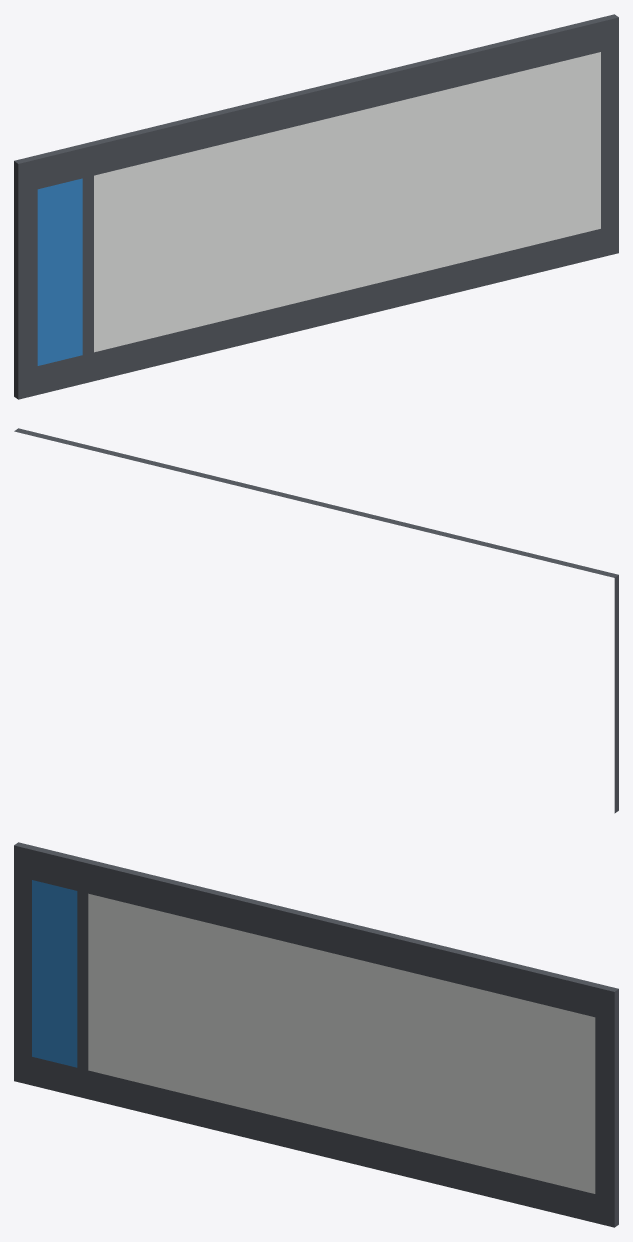
The model's file is fac_sign_room.glb.
The picture shows the model from 3 angles, top to bottom: view 1: azimuth 30°, elevation 25°; view 2: azimuth 150°, elevation 25°; view 3: azimuth 330°, elevation 25°; orthographic projection.
Visible parts, largest first — view 1: Body; view 2: Body; view 3: Body.
Boxes of the visible parts, box(x1,y1,x2,y2) form: Body: box(14, 14, 618, 399); Body: box(14, 428, 618, 813); Body: box(14, 842, 618, 1227).
Size of the model in its own units: 0.32 by 0.12 by 0.0046.
